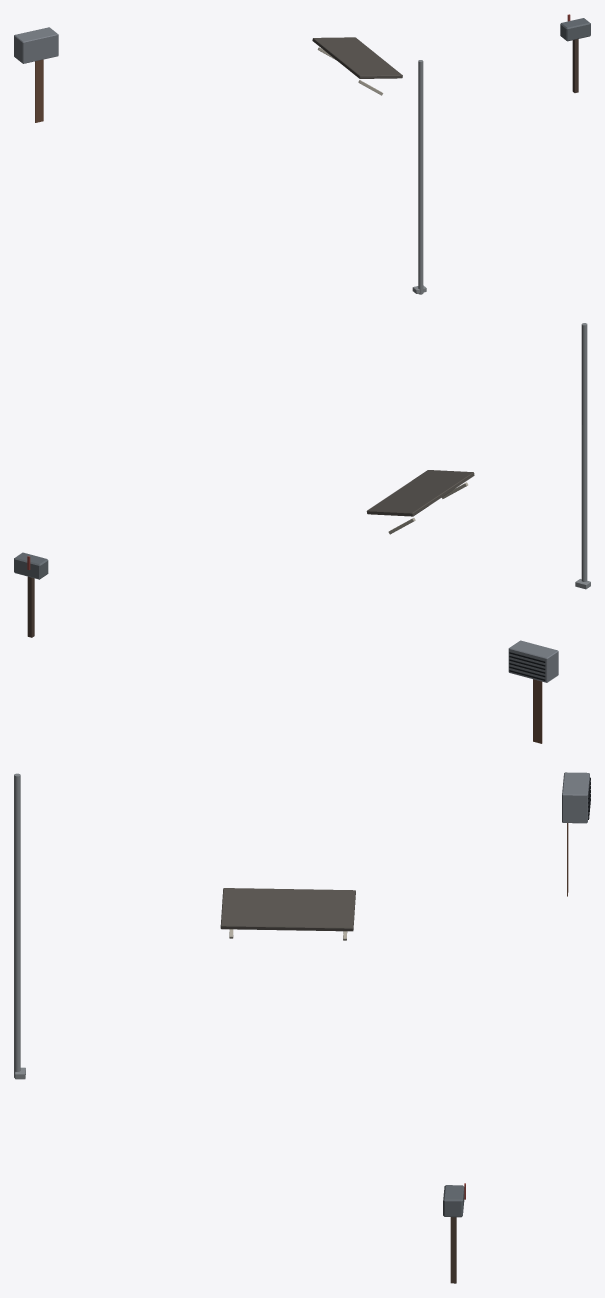
File: house2_bits.glb
3 renders of one model, top to bottom at view 1: azimuth 30°, elevation 25°; view 2: azimuth 150°, elevation 25°; view 3: azimuth 270°, elevation 25°, orthographic. The views are drawn at different scales.
Visible parts, largest first — view 1: house2_bits; view 2: house2_bits; view 3: house2_bits.
Part boxes in pixels (x1,y1,x2,y2): house2_bits: (14,14,590,294); house2_bits: (14,323,590,743); house2_bits: (14,772,590,1283).
Size of the model in its own units: 10.34 by 4.4 by 7.6.
